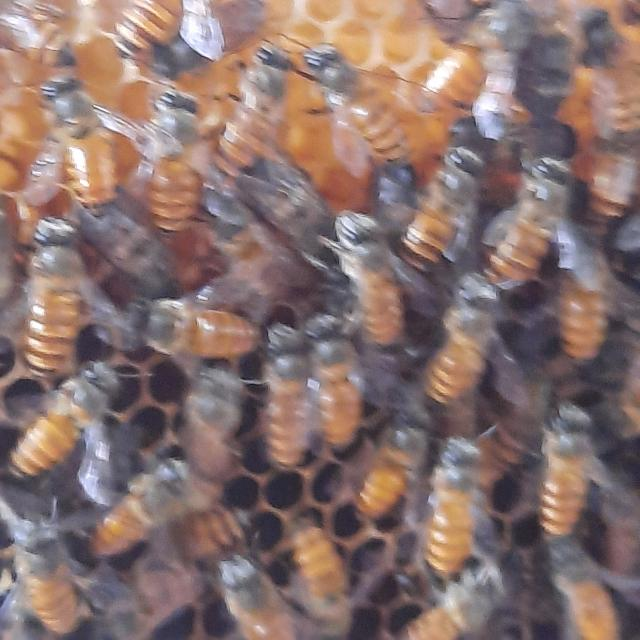honeybee: (9, 370, 154, 481), (380, 440, 500, 564), (188, 541, 319, 640), (118, 96, 216, 225), (545, 51, 627, 180), (235, 329, 325, 445), (13, 504, 96, 624), (449, 41, 554, 130), (424, 278, 509, 385), (302, 60, 394, 158), (520, 400, 607, 503), (318, 310, 394, 424), (329, 208, 408, 312), (419, 554, 522, 633), (20, 220, 84, 346), (167, 366, 250, 451), (419, 137, 479, 254), (94, 473, 220, 528), (49, 94, 126, 180), (503, 161, 567, 263), (122, 20, 222, 84), (278, 522, 359, 601), (177, 287, 259, 353), (556, 552, 618, 633), (560, 282, 624, 355), (229, 23, 263, 152)
